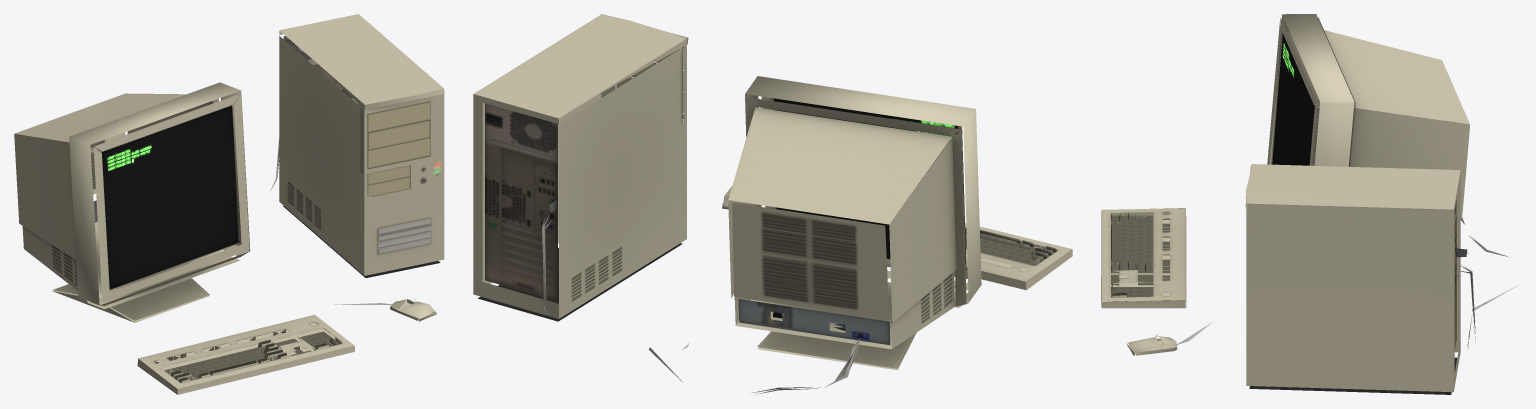
File: far.glb
The picture shows the model from 3 angles, left to right: view 1: azimuth 30°, elevation 25°; view 2: azimuth 150°, elevation 25°; view 3: azimuth 270°, elevation 25°; orthographic projection. The views are drawn at different scales.
Parts seen in each view (by area): view 1: retro_computer_setup; view 2: retro_computer_setup; view 3: retro_computer_setup.
Part boxes in pixels (x1=…): retro_computer_setup: x1=14, y1=14, x2=444, y2=394; retro_computer_setup: x1=473, y1=14, x2=1072, y2=394; retro_computer_setup: x1=1101, y1=14, x2=1518, y2=394.
Size of the model in its own units: 2.42 by 1.23 by 2.34.
Materials: 1 (1 with a texture image).
